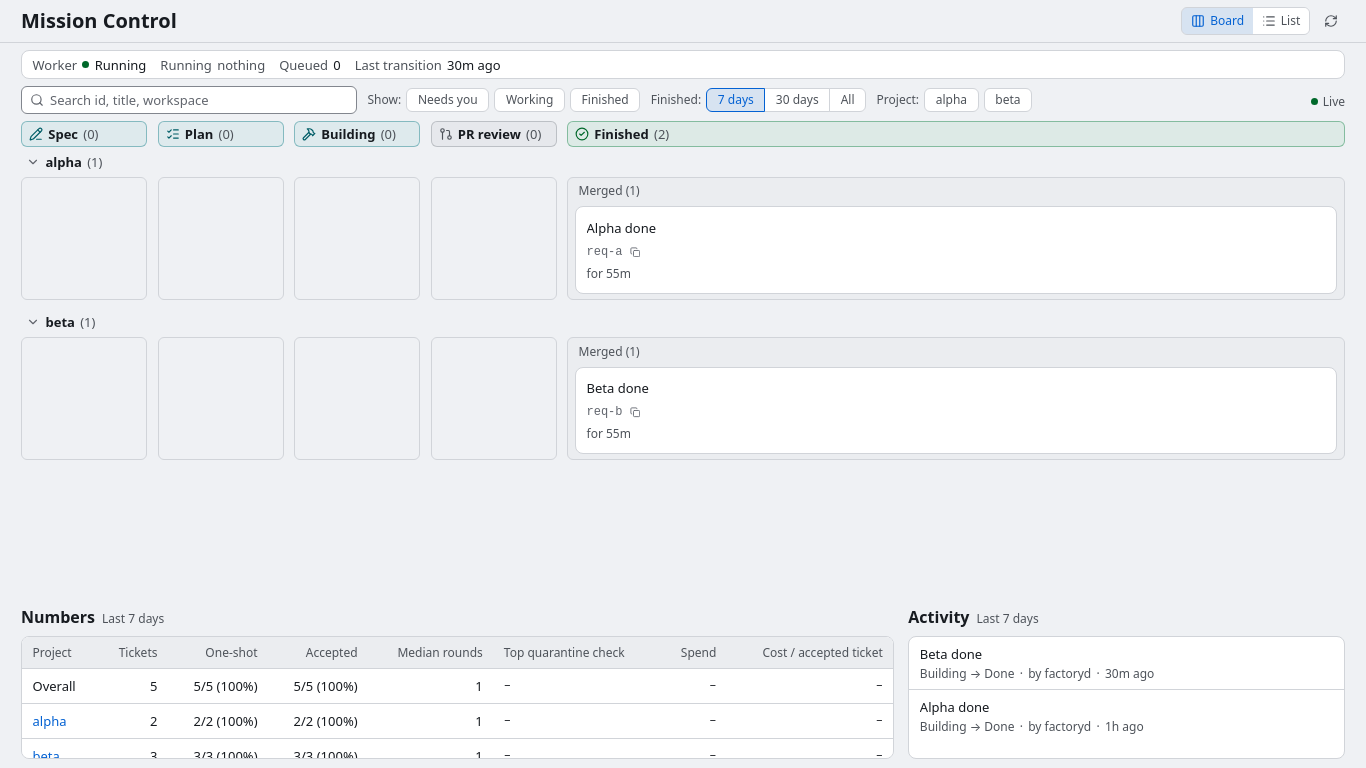
Scenario: numbers and activity follow the project filter, not the search box › a project chosen: its row and its moves only, and the headings say so
The width and height of the screenshot is (1366, 768).
Click the button "beta". click: (1008, 100)
box: [984, 88, 1032, 112]
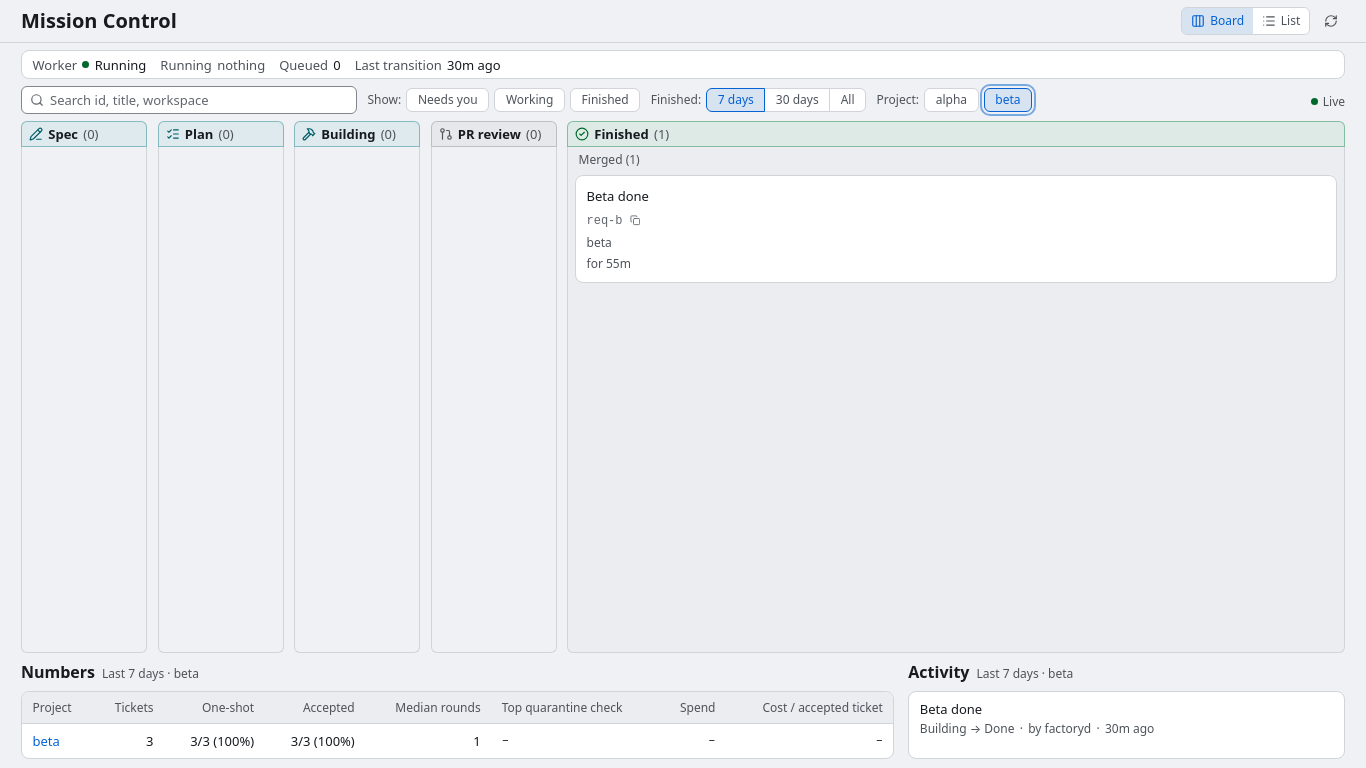
Check: the text with test id "numbers-window" reads "Last 7 days · beta", box [102, 665, 199, 682]
Check: the element "Activity" shows "Last 7 days · beta", box [976, 665, 1073, 682]
